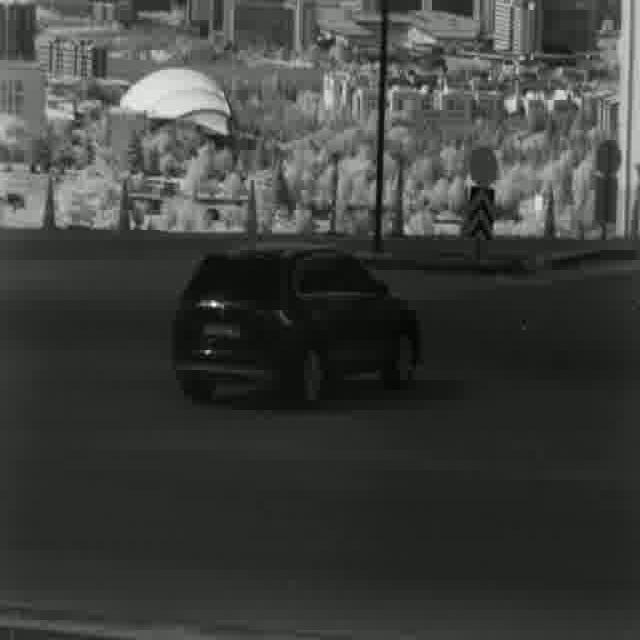Car: (163, 243, 422, 398)
